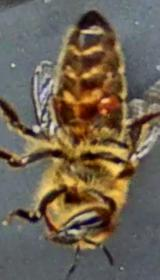varroa_mite: (90, 88, 131, 114)
